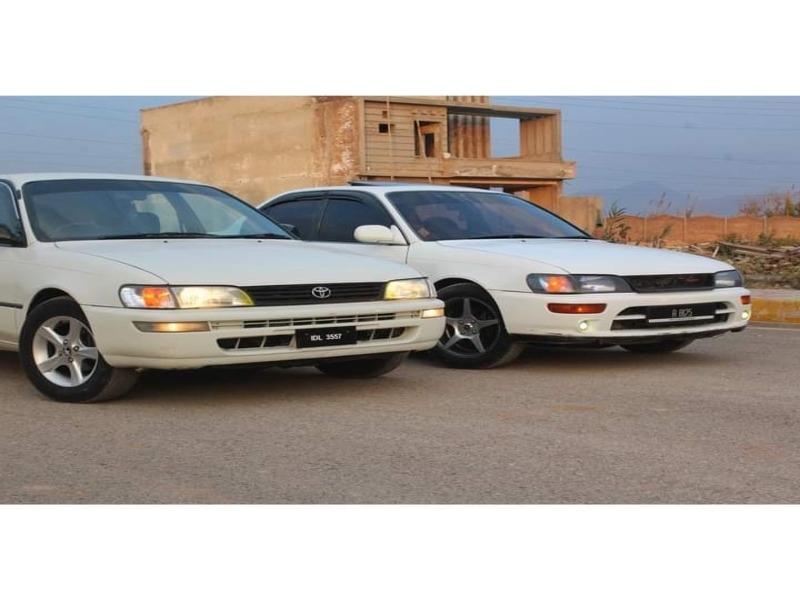License Plate: (296, 324, 362, 352), (663, 305, 702, 322)
